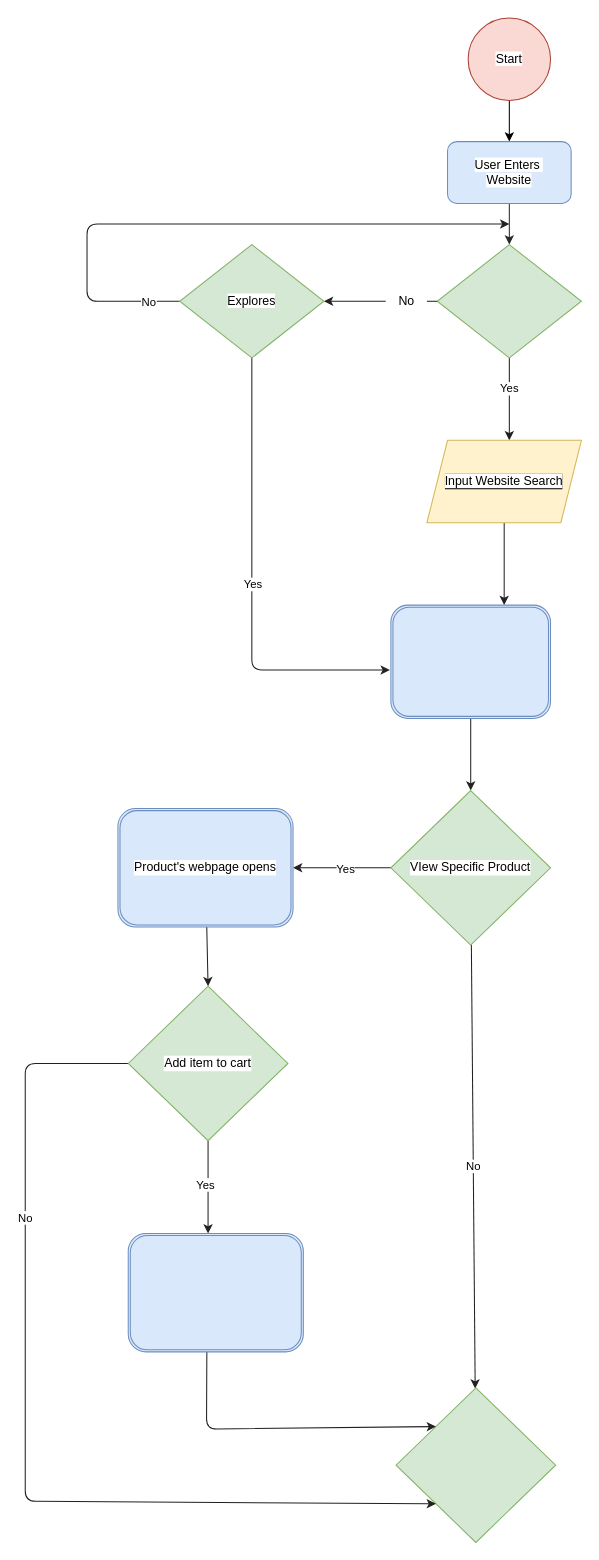
The diagram is 599 pixels wide and 1560 high, and some of its shapes have lost their labels. Here are the shapes that lost their labels. From the top down, the box of each, then its label:
(436, 244, 581, 358): Searches
(390, 604, 551, 718): User Begins Looking
(127, 1232, 303, 1352): Recieve cart confirmation
(395, 1387, 556, 1542): Continue Shopping
